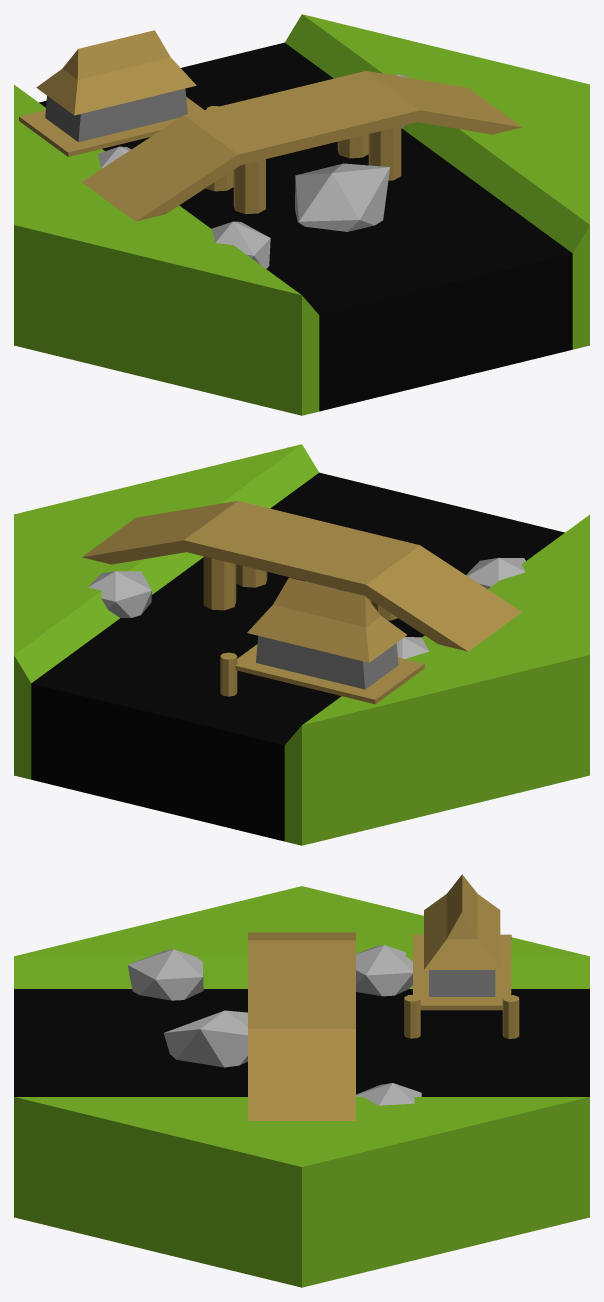
The model's file is Casas_Rio_2.fbx.
The picture shows the model from 3 angles, top to bottom: view 1: azimuth 30°, elevation 25°; view 2: azimuth 150°, elevation 25°; view 3: azimuth 270°, elevation 25°; orthographic projection.
Parts seen in each view (by area): view 1: Rio_2; view 2: Rio_2; view 3: Rio_2.
Part boxes in pixels (box(x1,y1,x2,y2)): Rio_2: box(14, 14, 589, 415); Rio_2: box(14, 444, 589, 845); Rio_2: box(14, 874, 589, 1287).
Bounding box in the file's own units: 200 × 67.29 × 173.
